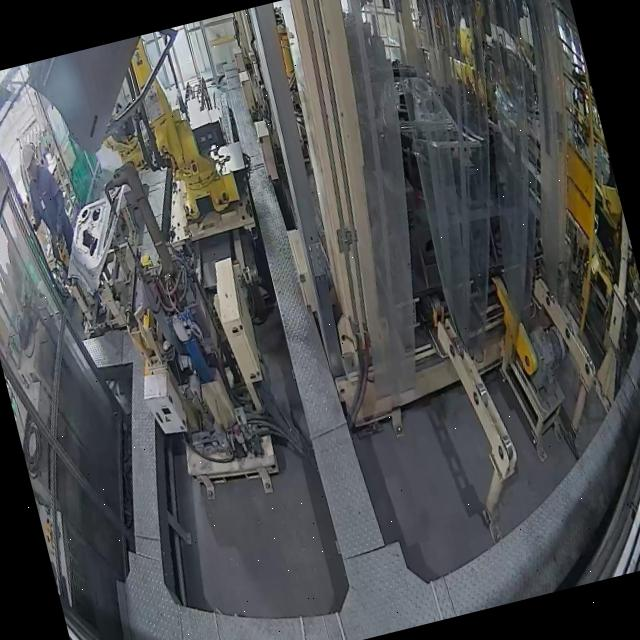Person: (12, 138, 82, 276), (41, 517, 58, 555)
